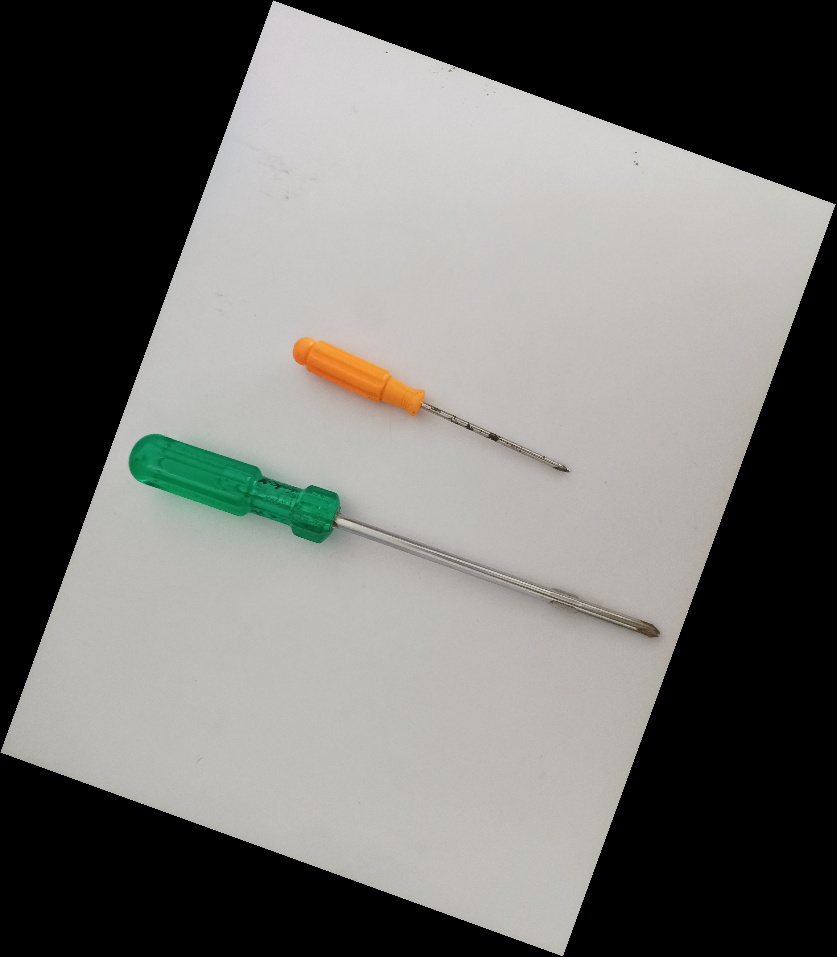screwdriver: (126, 428, 665, 641), (280, 328, 588, 482)
